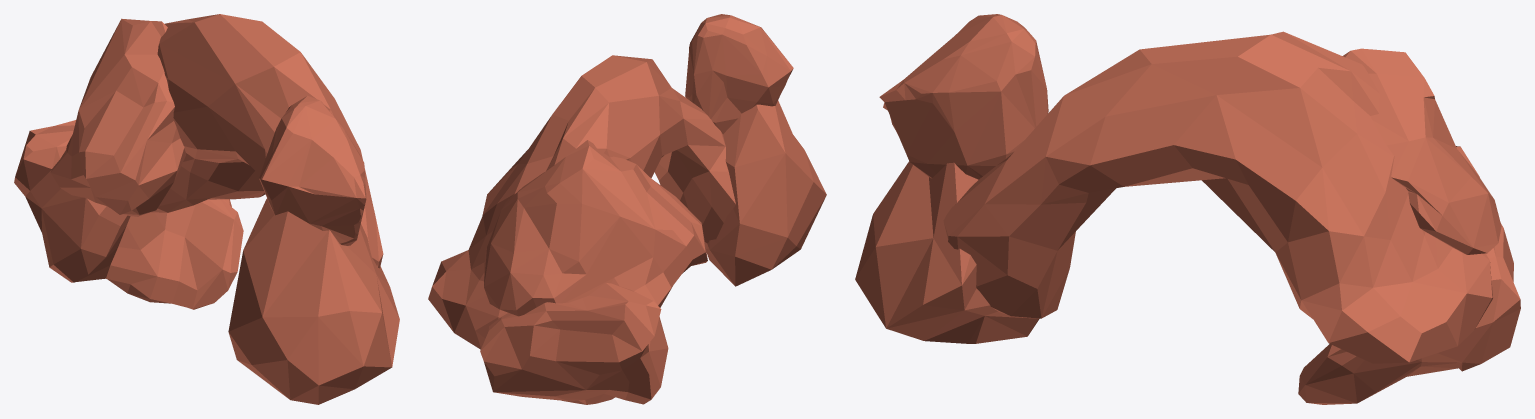
Rendered from crag_009.fbx.
The picture shows the model from 3 angles, left to right: view 1: azimuth 30°, elevation 25°; view 2: azimuth 150°, elevation 25°; view 3: azimuth 270°, elevation 25°; orthographic projection. The views are drawn at different scales.
Parts seen in each view (by area): view 1: crag_009; view 2: crag_009; view 3: crag_009.
Part boxes in pixels (<box>): crag_009: <box>14,14,399,404</box>; crag_009: <box>428,14,826,404</box>; crag_009: <box>855,14,1520,404</box>.
Size of the model in its own units: 3056 by 5672 by 3517.
